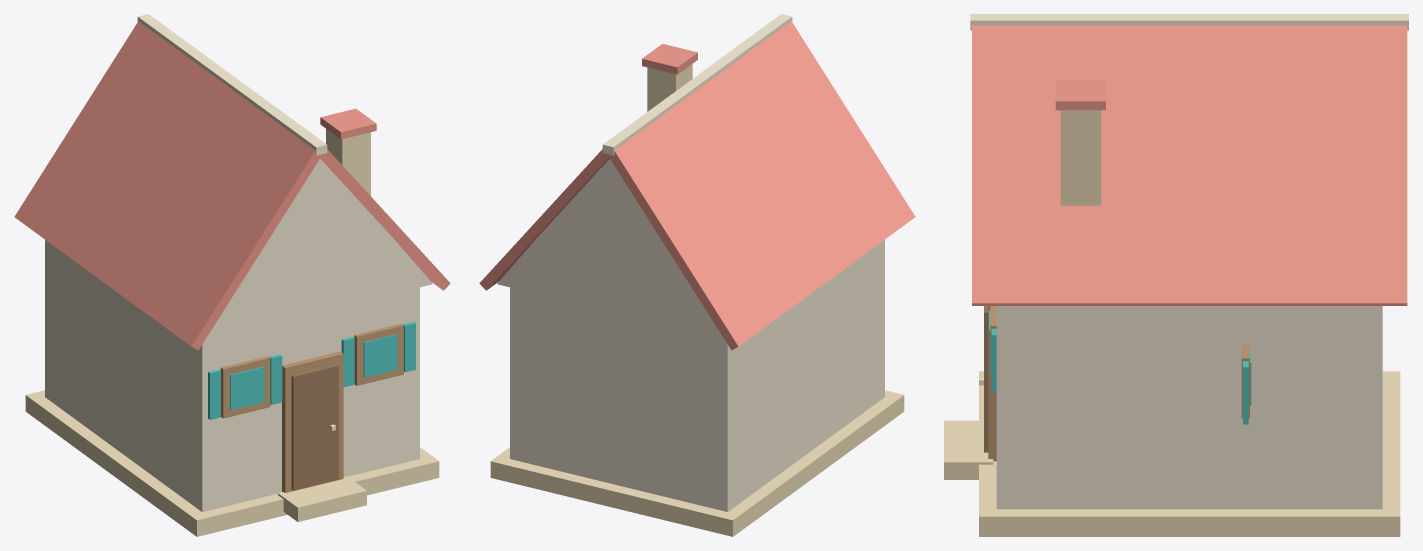
The model's file is house.glb.
The picture shows the model from 3 angles, left to right: view 1: azimuth 30°, elevation 25°; view 2: azimuth 150°, elevation 25°; view 3: azimuth 270°, elevation 25°; orthographic projection. The views are drawn at different scales.
Visible parts, largest first — view 1: house__House_Stucco, house__House_Roof, house__House_Sand, house__House_WoodDark, house__House_Wood, house__House_Shutter, house__House_Trim; view 2: house__House_Stucco, house__House_Roof, house__House_Sand, house__House_Trim; view 3: house__House_Roof, house__House_Stucco, house__House_Sand, house__House_Trim, house__House_Wood, house__House_Shutter, house__House_WoodDark.
Boxes of the visible parts, left/top/right/bottom form: house__House_Stucco: left=45, top=159, right=432, bottom=511; house__House_Roof: left=14, top=21, right=450, bottom=350; house__House_Sand: left=25, top=129, right=439, bottom=536; house__House_WoodDark: left=291, top=364, right=338, bottom=490; house__House_Wood: left=220, top=323, right=403, bottom=492; house__House_Shutter: left=208, top=322, right=415, bottom=419; house__House_Trim: left=137, top=14, right=335, bottom=430; house__House_Stucco: left=497, top=159, right=884, bottom=511; house__House_Roof: left=479, top=21, right=915, bottom=350; house__House_Sand: left=490, top=64, right=904, bottom=536; house__House_Trim: left=602, top=14, right=792, bottom=155; house__House_Roof: left=972, top=25, right=1407, bottom=305; house__House_Stucco: left=996, top=306, right=1382, bottom=509; house__House_Sand: left=944, top=110, right=1400, bottom=536; house__House_Trim: left=970, top=14, right=1408, bottom=385; house__House_Wood: left=988, top=306, right=1249, bottom=461; house__House_Shutter: left=989, top=310, right=1251, bottom=424; house__House_WoodDark: left=984, top=306, right=988, bottom=452.
Bounding box in the file's own units: 5.57 × 7.03 × 6.62.
